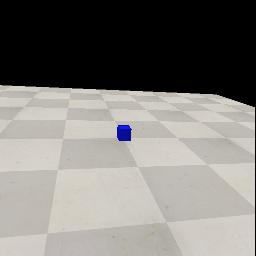box: (117, 125, 132, 141)
